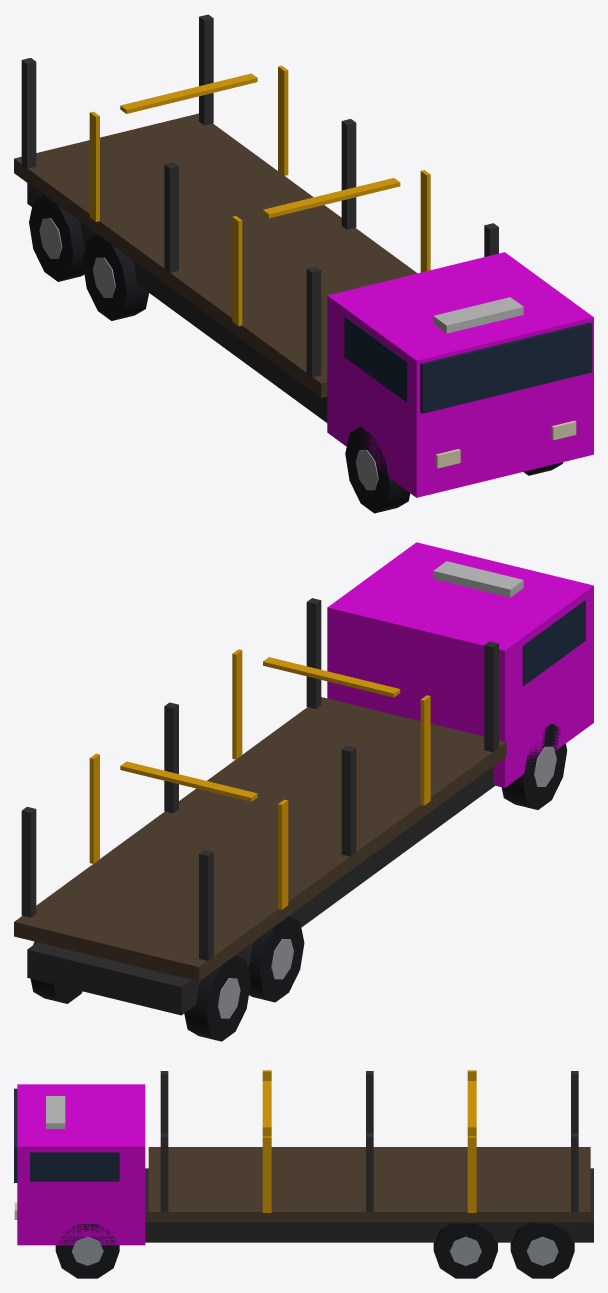
The model's file is logtruck.glb.
3 views of the same model, one above another, from view 1: azimuth 30°, elevation 25°; view 2: azimuth 150°, elevation 25°; view 3: azimuth 270°, elevation 25° (orthographic). The views are drawn at different scales.
Visible parts, largest first — view 1: body, straps; view 2: body, straps; view 3: body, straps.
Boxes of the visible parts, x1,y1,x2,y2 form: body: (14,14,593,513); straps: (89,65,430,326); body: (14,542,593,1041); straps: (89,649,430,909); body: (14,1071,593,1278); straps: (262,1070,476,1212).
Size of what is drawn, in the model's own units: 2.49 by 2.48 by 9.05.
